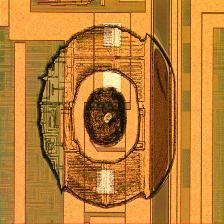BLOCK ETCH: (35, 19, 181, 213)
